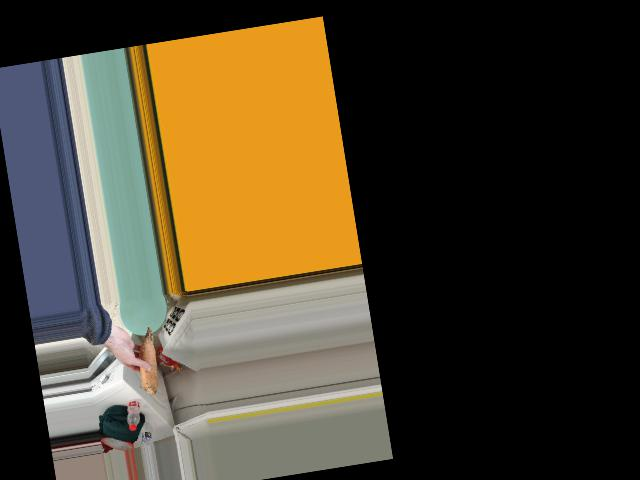sweet_potato: (128, 325, 163, 399)
